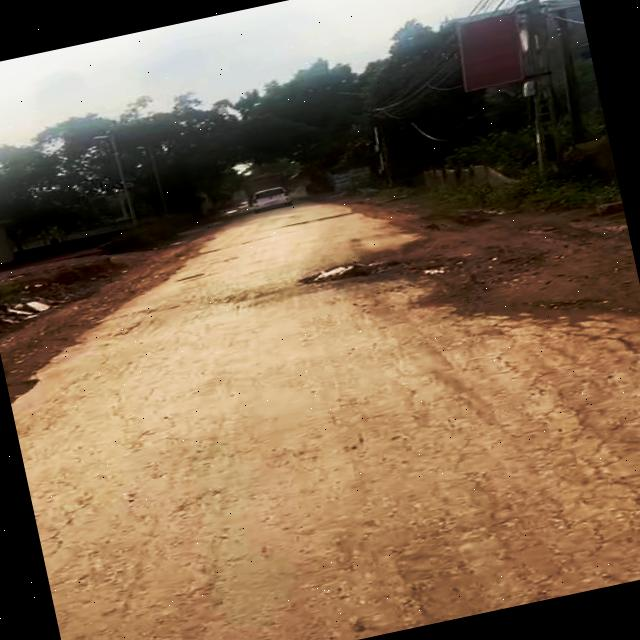pothole: (300, 250, 409, 295)
